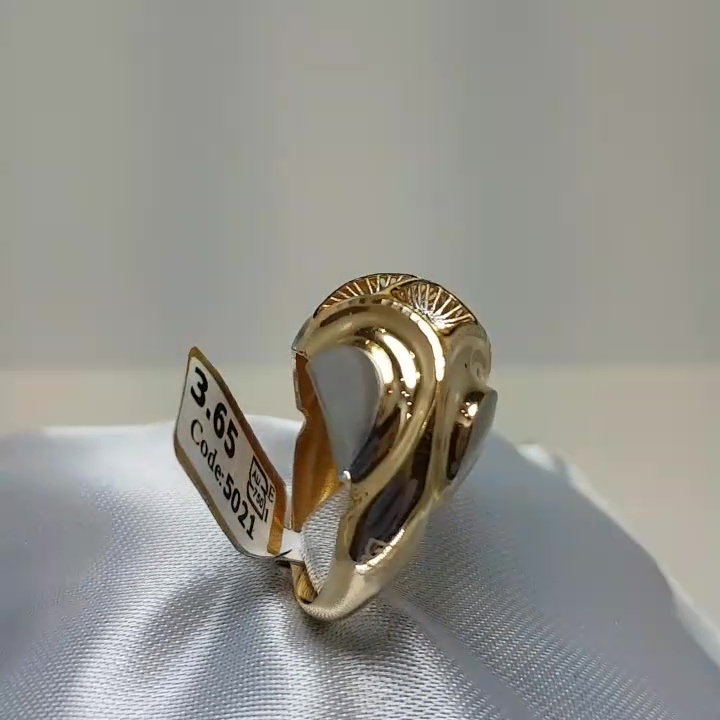Ring 2: (228, 250, 519, 643)
